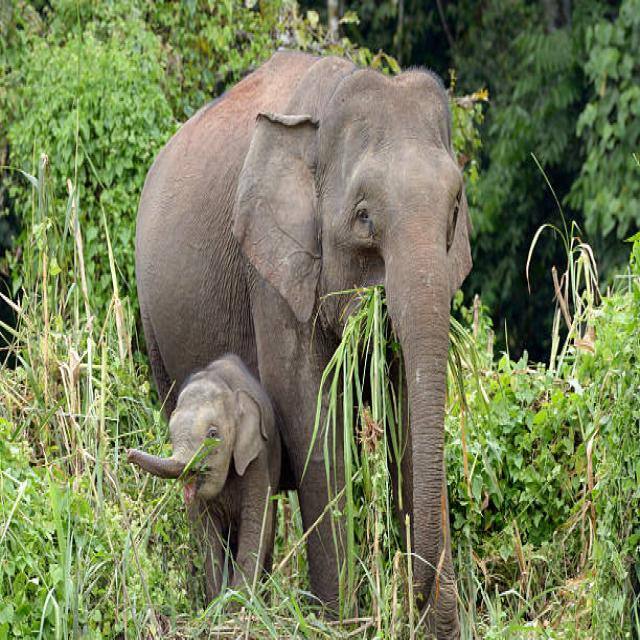Elephant: (126, 27, 479, 640), (134, 334, 299, 616)
